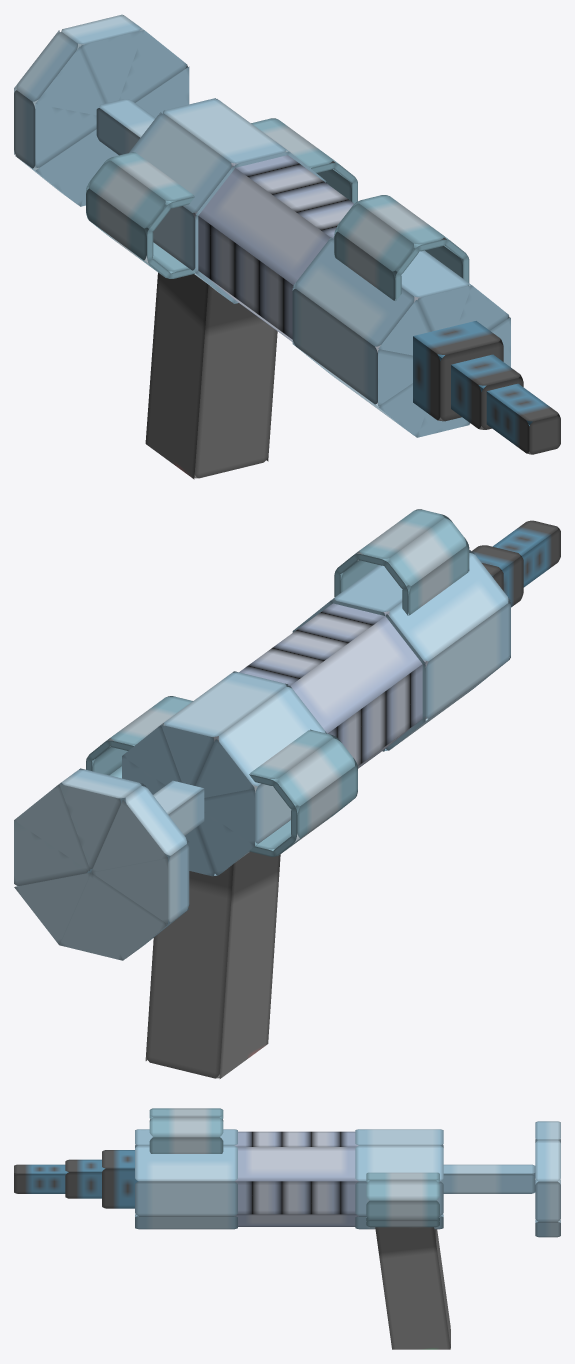
The model's file is Syringe_Gun.fbx.
3 views of the same model, one above another, from view 1: azimuth 30°, elevation 25°; view 2: azimuth 150°, elevation 25°; view 3: azimuth 270°, elevation 25° (orthographic). The views are drawn at different scales.
Parts seen in each view (by area): view 1: cuboid_3, cylinder_3, cylinder_2, cylinder, cylinder_1, tube_1, tube, cuboid_2, cuboid, cuboid_1, tube_2, cuboid_4; view 2: cylinder_2, cuboid_3, cylinder_1, cylinder, cylinder_3, tube_1, tube, tube_2, cuboid, cuboid_4, cuboid_1; view 3: cylinder, cylinder_3, cuboid_3, cylinder_1, tube_2, tube, cylinder_2, cuboid_4, cuboid_2, cuboid, cuboid_1.
Part boxes in pixels (bbox=[...]): cuboid_3: bbox=[145, 272, 277, 479]; cylinder_3: bbox=[292, 236, 510, 437]; cylinder_2: bbox=[14, 14, 189, 206]; cylinder: bbox=[192, 155, 420, 404]; cylinder_1: bbox=[129, 98, 326, 303]; tube_1: bbox=[86, 152, 196, 278]; tube: bbox=[334, 195, 469, 300]; cuboid_2: bbox=[413, 321, 503, 421]; cuboid: bbox=[478, 383, 560, 454]; cuboid_1: bbox=[437, 354, 523, 429]; tube_2: bbox=[251, 118, 357, 203]; cuboid_4: bbox=[96, 99, 155, 155]; cylinder_2: bbox=[14, 768, 189, 960]; cuboid_3: bbox=[145, 851, 280, 1078]; cylinder_1: bbox=[122, 671, 326, 876]; cylinder: bbox=[212, 603, 428, 768]; cylinder_3: bbox=[292, 550, 510, 751]; tube_1: bbox=[249, 729, 357, 856]; tube: bbox=[334, 509, 469, 615]; tube_2: bbox=[86, 696, 192, 778]; cuboid: bbox=[493, 520, 560, 587]; cuboid_4: bbox=[153, 780, 204, 835]; cuboid_1: bbox=[471, 545, 523, 607]; cylinder: bbox=[234, 1131, 358, 1226]; cylinder_3: bbox=[135, 1129, 237, 1229]; cuboid_3: bbox=[375, 1227, 450, 1349]; cylinder_1: bbox=[355, 1129, 443, 1229]; tube_2: bbox=[366, 1172, 439, 1227]; tube: bbox=[149, 1108, 223, 1153]; cylinder_2: bbox=[535, 1121, 560, 1237]; cuboid_4: bbox=[440, 1164, 535, 1193]; cuboid_2: bbox=[102, 1150, 138, 1208]; cuboid: bbox=[14, 1164, 68, 1193]; cuboid_1: bbox=[65, 1159, 105, 1198].
Bounding box in the file's own units: 62.5 × 106 × 233.
Materials: 1 (1 with a texture image).
